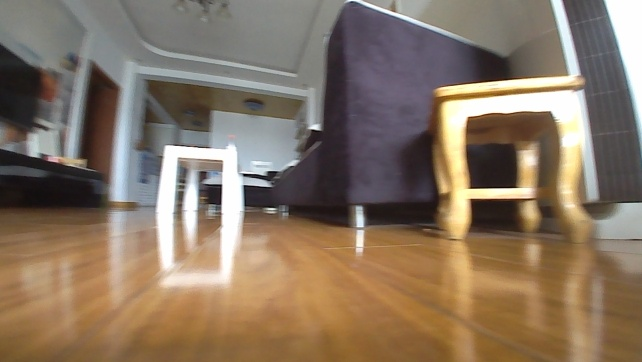TV_stand: (0, 148, 107, 214)
sofa1: (202, 0, 510, 230)
